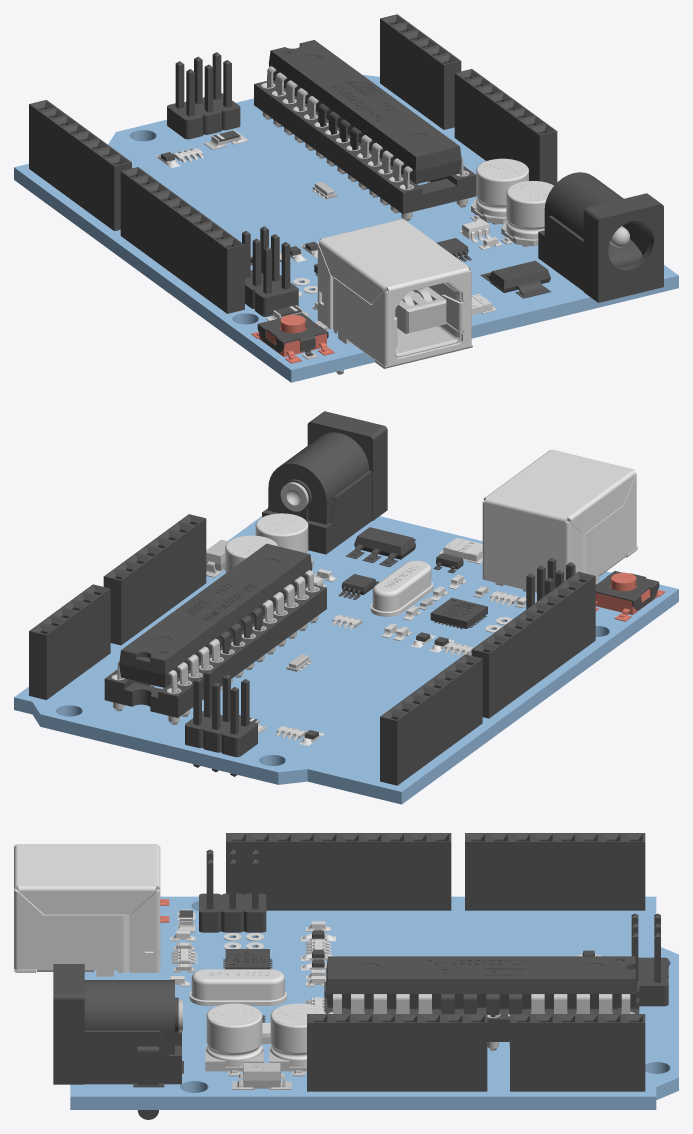
Rendered from arduino_uno.glb.
3 views of the same model, one above another, from view 1: azimuth 30°, elevation 25°; view 2: azimuth 150°, elevation 25°; view 3: azimuth 270°, elevation 25° (orthographic). The views are drawn at different scales.
Parts seen in each view (by area): view 1: Body1.083, Body1.001, Body2.001, Body11, Body1.044, Body1.042, Body1.072, Body1.012, Body1.043, Body1.002, Body2, Body2.012 (+9 smaller); view 2: Body1.083, Body1.001, Body2.001, Body11, Body1.044, Body1.042, Body1.072, Body1.043, Body1.012, Body1.008, Body1.064, Body1.010 (+11 smaller); view 3: Body1.083, Body1.001, Body1.044, Body11, Body2.001, Body1.042, Body1.072, Body1.043, Body1.008, Body2, Body2.012, Body1.012 (+7 smaller).
Boxes of the visible parts, x1,y1,x2,y2 form: Body1.083: (14, 75, 678, 382); Body1.001: (317, 219, 472, 374); Body2.001: (538, 172, 663, 302); Body11: (268, 40, 461, 184); Body1.044: (120, 167, 244, 313); Body1.042: (29, 100, 131, 230); Body1.072: (454, 69, 557, 185); Body1.012: (254, 80, 476, 214); Body1.043: (380, 14, 461, 129); Body1.002: (385, 281, 462, 357); Body2: (506, 181, 553, 239); Body2.012: (476, 158, 528, 216); Body1.083: (14, 516, 678, 804); Body1.001: (482, 449, 637, 592); Body2.001: (262, 411, 387, 554); Body11: (119, 543, 312, 687); Body1.044: (471, 571, 595, 718); Body1.042: (380, 654, 482, 785); Body1.072: (103, 514, 206, 645); Body1.043: (29, 584, 110, 699); Body1.012: (104, 583, 326, 717); Body1.008: (370, 560, 433, 616); Body1.064: (221, 679, 257, 776); Body1.010: (345, 527, 416, 567); Body1.083: (70, 896, 678, 1109); Body1.001: (14, 844, 160, 976); Body1.044: (226, 833, 451, 910); Body11: (326, 956, 636, 1017); Body2.001: (53, 964, 183, 1119); Body1.042: (465, 833, 645, 910); Body1.072: (307, 1014, 487, 1091); Body1.043: (510, 1014, 645, 1091); Body1.008: (189, 969, 286, 1005); Body2: (206, 1003, 262, 1066); Body2.012: (270, 1003, 325, 1066); Body1.012: (324, 981, 639, 1041).
Size of the model in its own units: 0.0533 by 0.0153 by 0.0749.
